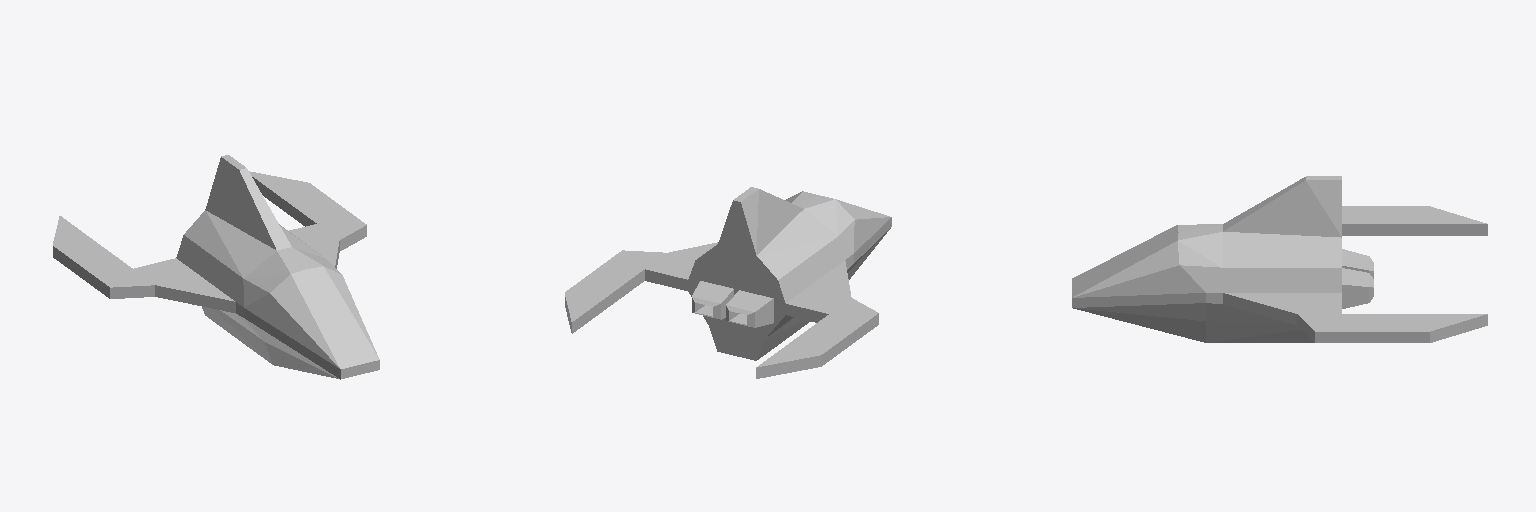
File: airplane_02.obj
The picture shows the model from 3 angles: view 1: azimuth 30°, elevation 25°; view 2: azimuth 150°, elevation 25°; view 3: azimuth 270°, elevation 25°; orthographic projection.
Visible parts, largest first — view 1: plane_test_Cube; view 2: plane_test_Cube; view 3: plane_test_Cube.
Boxes of the visible parts, <box> form: plane_test_Cube: <box>53,155,379,379</box>; plane_test_Cube: <box>565,187,891,378</box>; plane_test_Cube: <box>1072,176,1487,342</box>.
Size of the model in its own units: 2.62 by 1.51 by 3.68.